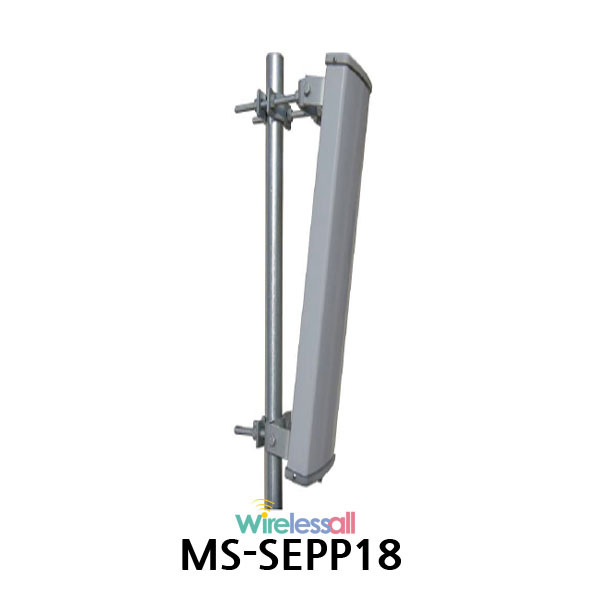sa: (255, 41, 365, 492)
